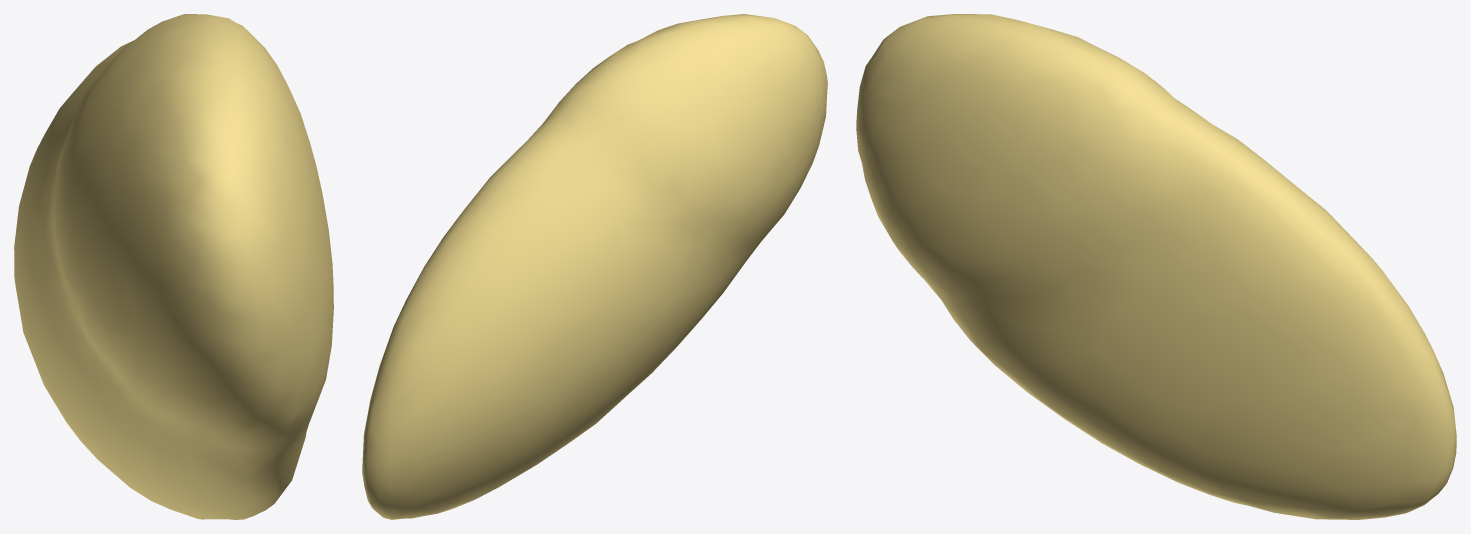
The model's file is fma73474_mm3564.glb.
3 views of the same model, side by side, from view 1: azimuth 30°, elevation 25°; view 2: azimuth 150°, elevation 25°; view 3: azimuth 270°, elevation 25° (orthographic). The views are drawn at different scales.
Parts seen in each view (by area): view 1: FMA73474_MM3564; view 2: FMA73474_MM3564; view 3: FMA73474_MM3564.
Part boxes in pixels (<box>): FMA73474_MM3564: <box>14,14,333,519</box>; FMA73474_MM3564: <box>362,14,827,519</box>; FMA73474_MM3564: <box>856,14,1456,519</box>.
Size of the model in its own units: 0.00135 by 0.0023 by 0.00286.
